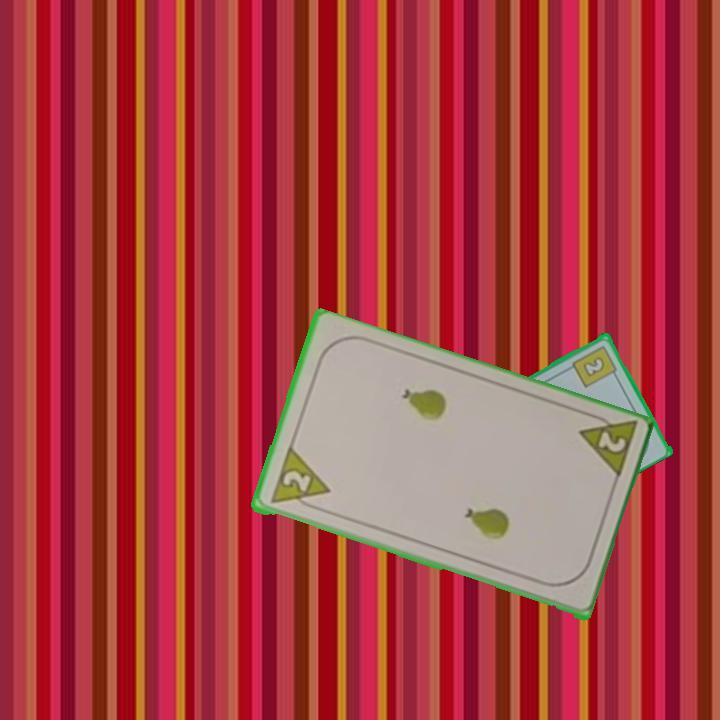2b: (569, 342, 621, 390)
2p: (574, 408, 639, 484), (266, 446, 332, 513)
